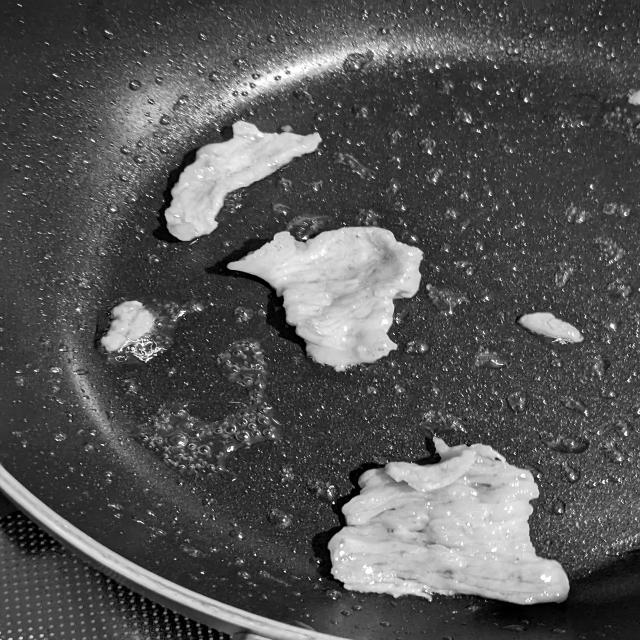OK cooked pork,: (324, 419, 600, 617), (213, 219, 438, 384), (158, 113, 337, 253)
